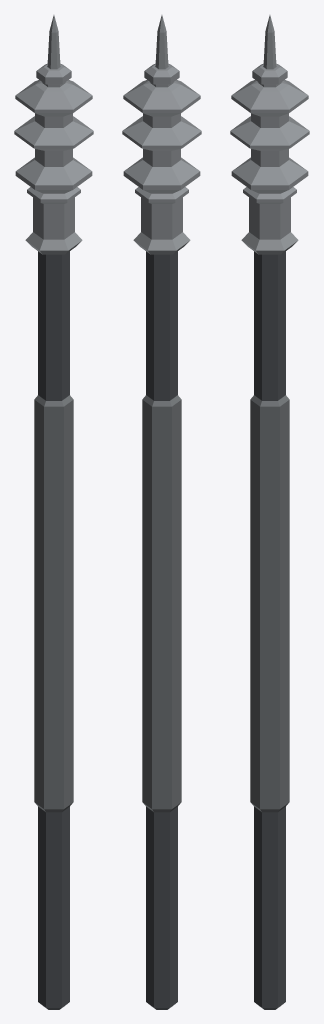
File: Langets.001.fbx
3 views of the same model, side by side, from view 1: azimuth 90°, elevation 25°; view 2: azimuth 150°, elevation 25°; view 3: azimuth 270°, elevation 25° (orthographic).
Parts seen in each view (by area): view 1: Langets.001; view 2: Langets.001; view 3: Langets.001.
Part boxes in pixels (left/top/right/bottom): Langets.001: left=14, top=15, right=93, bottom=1009; Langets.001: left=122, top=15, right=201, bottom=1009; Langets.001: left=230, top=15, right=309, bottom=1009.
Size of the model in its own units: 8.17 by 130 by 9.43.
